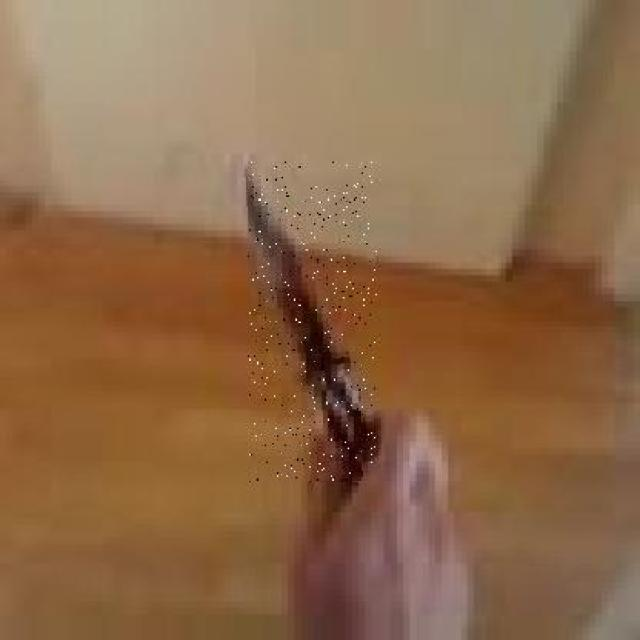knife: (248, 162, 378, 482)
